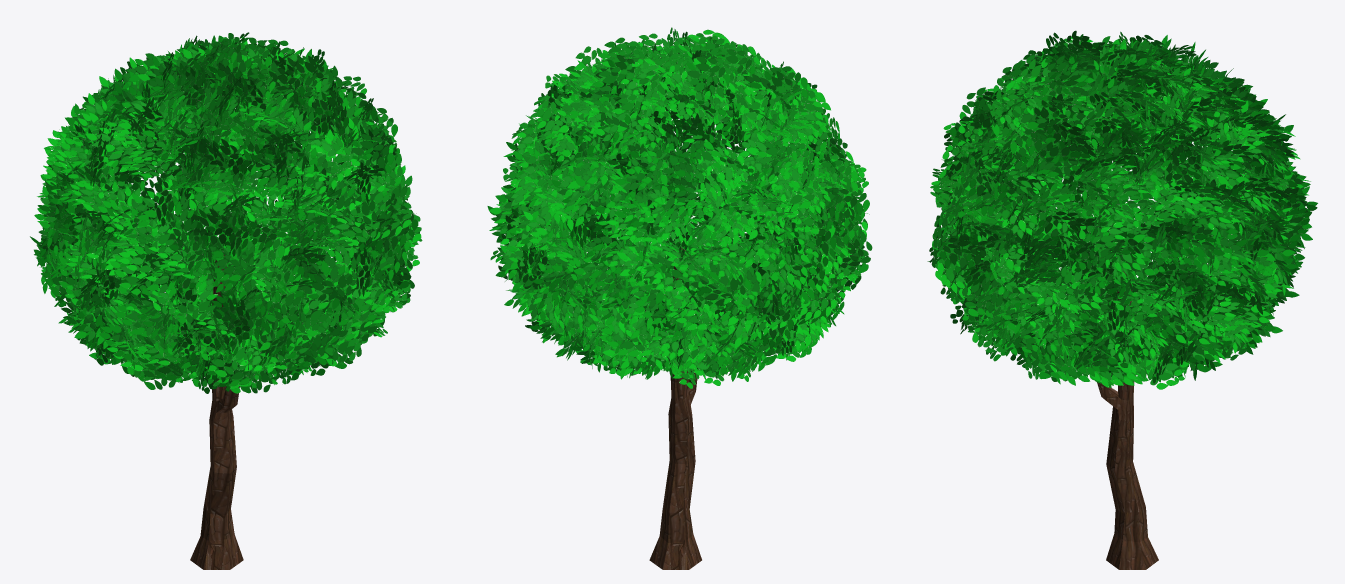
The model's file is Tree 2.fbx.
The picture shows the model from 3 angles, left to right: view 1: azimuth 30°, elevation 25°; view 2: azimuth 150°, elevation 25°; view 3: azimuth 270°, elevation 25°; orthographic projection.
Visible parts, largest first — view 1: Plane.203, Tree Base 2; view 2: Plane.203, Tree Base 2; view 3: Plane.203, Tree Base 2.
Boxes of the visible parts, bbox=[...] form: Plane.203: bbox=[30, 32, 422, 393]; Tree Base 2: bbox=[190, 255, 243, 569]; Plane.203: bbox=[487, 27, 872, 388]; Tree Base 2: bbox=[649, 248, 701, 569]; Plane.203: bbox=[927, 30, 1317, 389]; Tree Base 2: bbox=[1097, 271, 1158, 569].
Bounding box in the file's own units: 905 × 1261 × 889.
